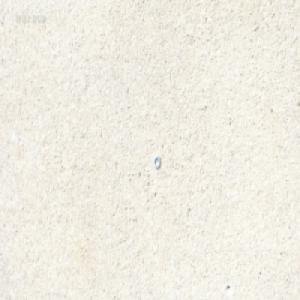Washer: (154, 154, 161, 169)
